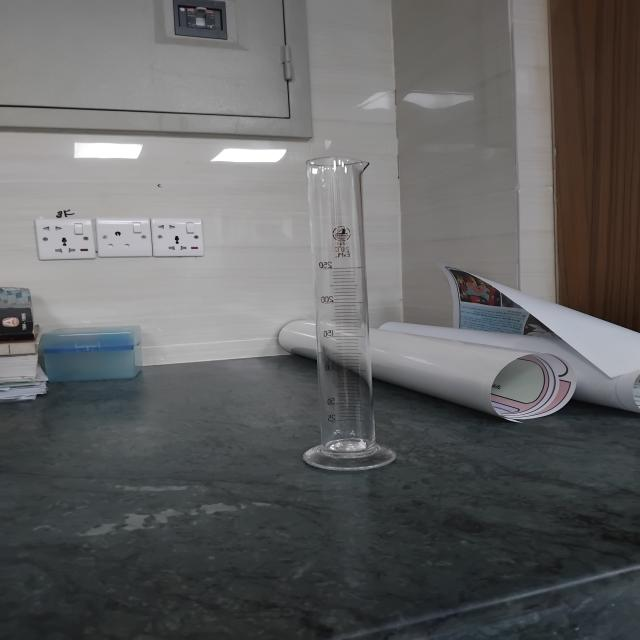Measuring_Cylinder: (265, 129, 459, 491)
